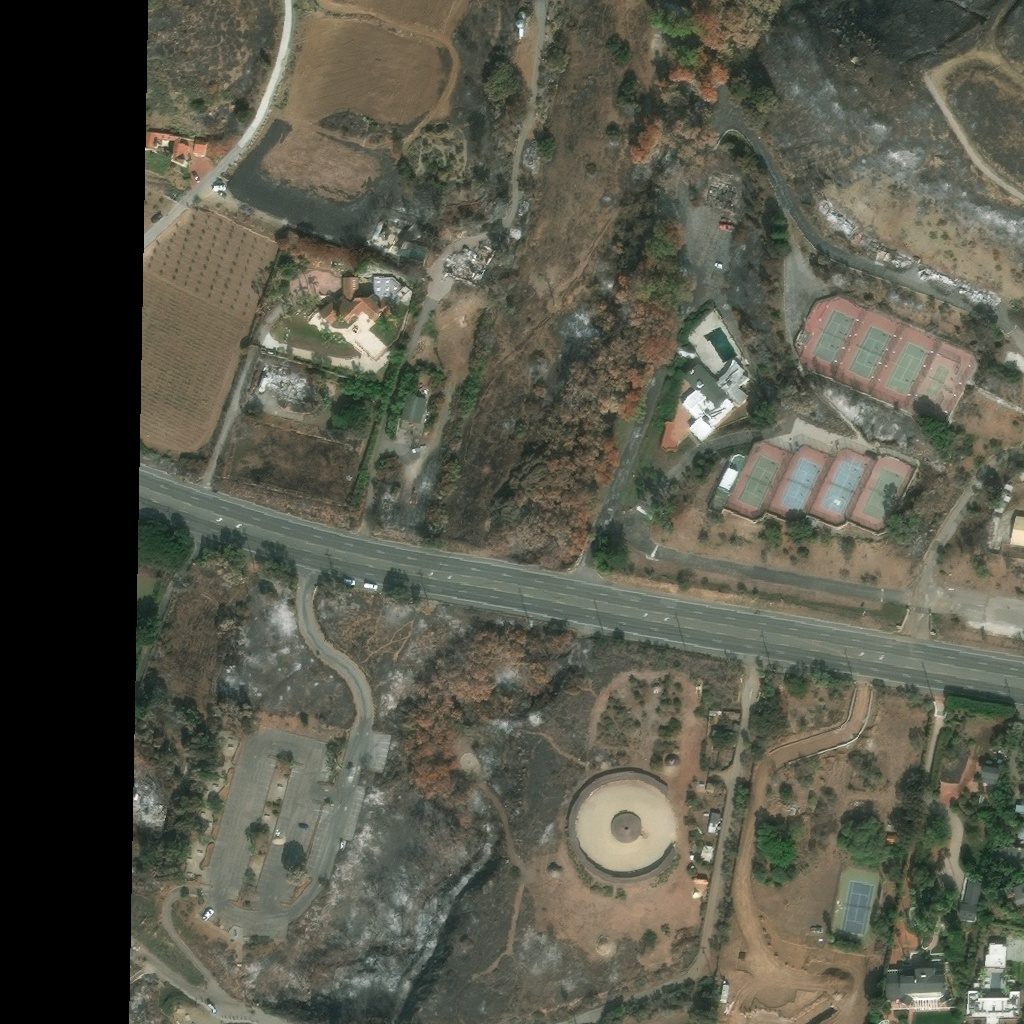0 no-damage: (565, 769, 677, 884), (679, 358, 750, 443), (954, 846, 1023, 923), (316, 274, 413, 327), (964, 941, 1019, 1023), (884, 965, 944, 1004), (146, 131, 207, 165), (398, 392, 425, 428), (611, 812, 642, 843), (1001, 882, 1023, 909), (716, 466, 737, 492), (1008, 513, 1023, 547), (979, 765, 997, 786), (706, 812, 721, 833), (699, 844, 714, 862), (718, 983, 729, 1004), (663, 754, 678, 765), (547, 865, 559, 877), (885, 834, 898, 844), (692, 877, 708, 884), (1016, 826, 1023, 839), (707, 710, 721, 716), (1014, 804, 1023, 812), (731, 723, 738, 731)
1 minor-damage: (794, 326, 811, 344)
3 destroyed: (441, 239, 496, 288), (256, 366, 313, 408), (858, 232, 913, 268), (134, 773, 165, 826), (818, 197, 859, 235), (913, 260, 958, 290), (960, 281, 1001, 311), (701, 174, 732, 209), (523, 142, 536, 166), (593, 749, 606, 760)
